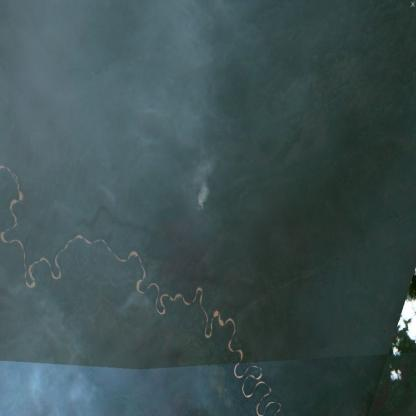fire: (193, 198, 208, 220)
